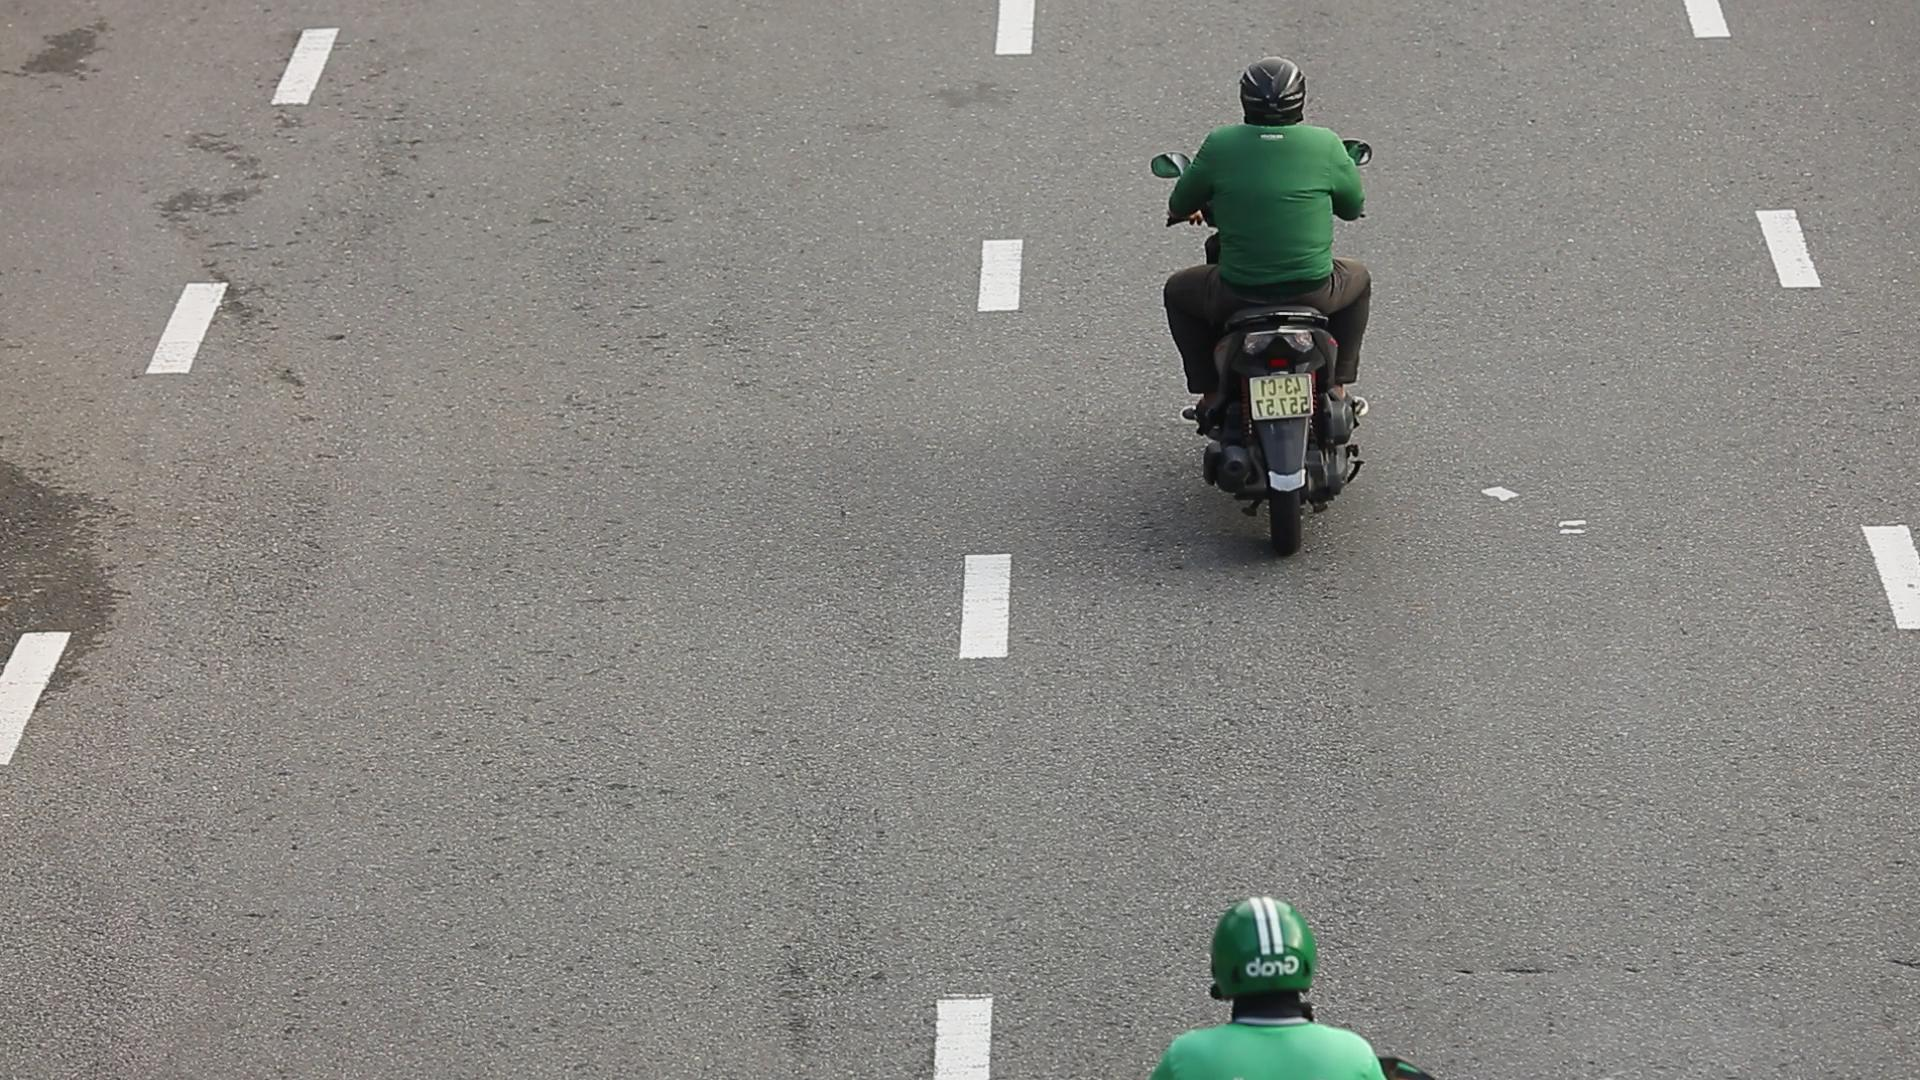motobike: (1149, 53, 1386, 559)
